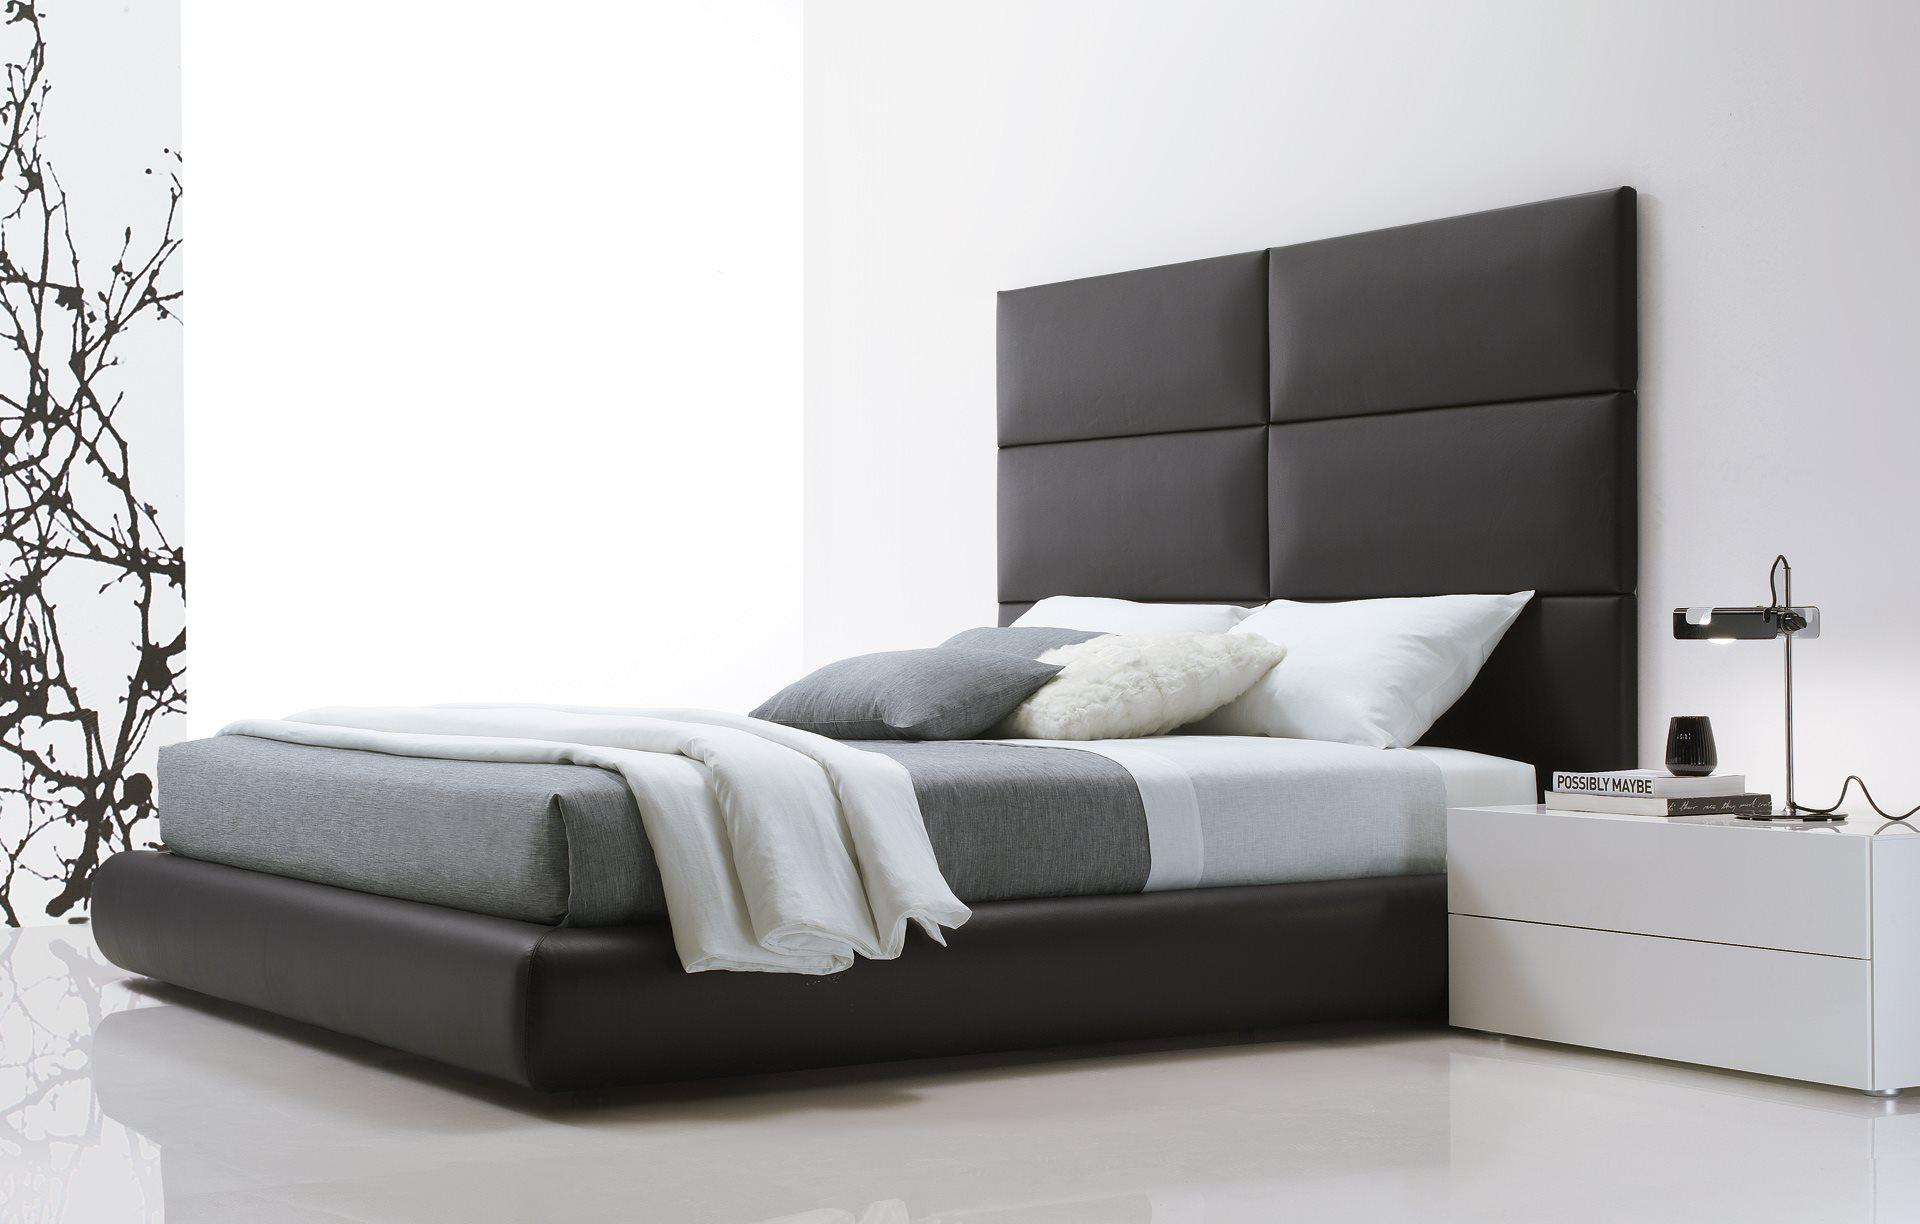bed: (200, 525, 1405, 1003)
